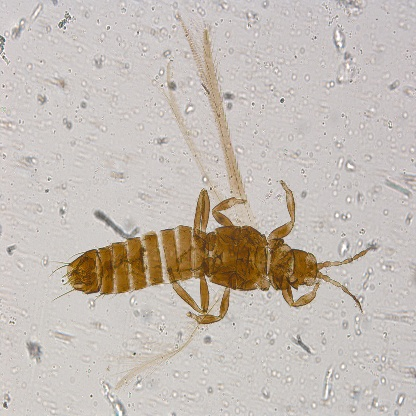Thrips: (69, 180, 317, 324)
